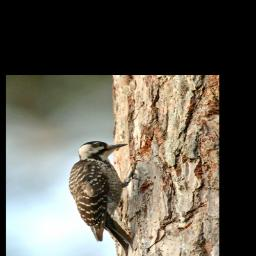Woodpecker: (67, 138, 143, 256)
